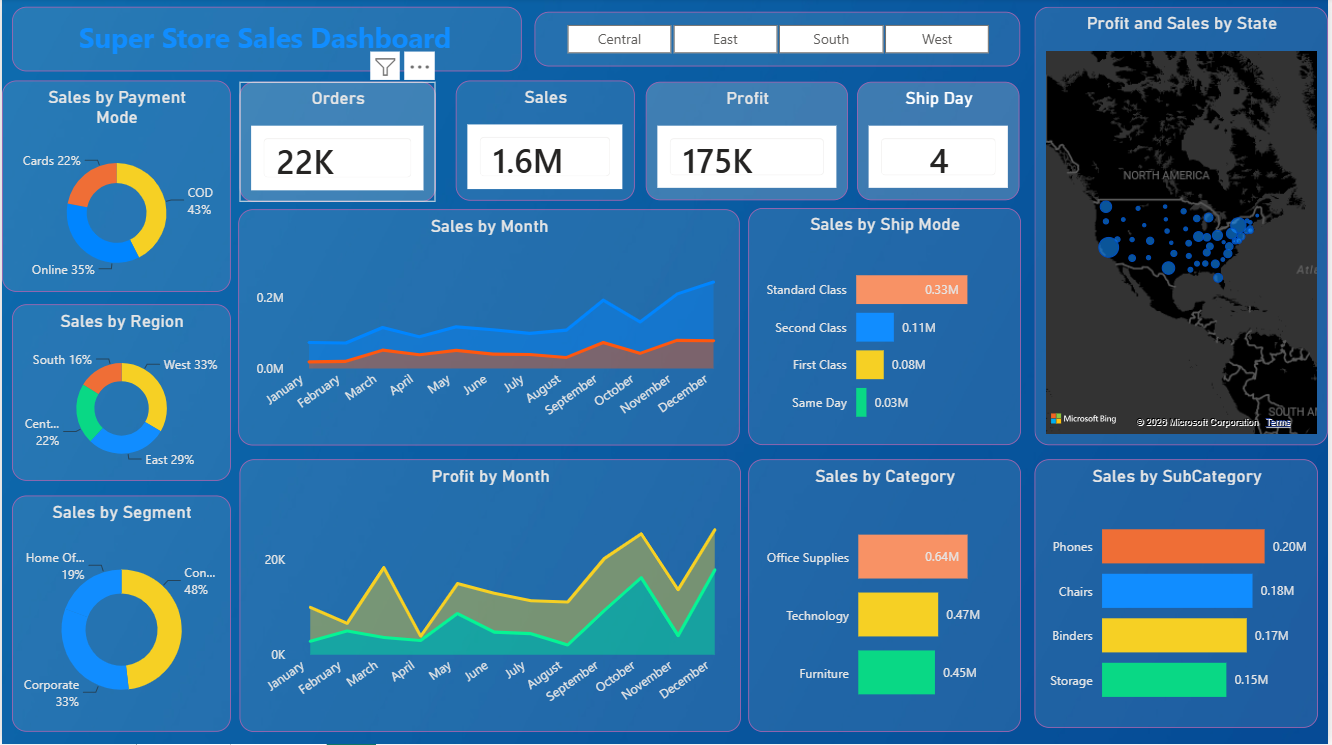

The page's visual inventory and layout, read from the dashboard file:
{"tool":"powerbi","page":{"name":"Page 1","canvas":[1280,720],"ordinal":0},"visuals":[{"type":"clusteredBarChart","title":"Sales by Category","fields":{"Category":["Sheet1.Category"],"Y":["Sum(Sheet1.Sales)"]},"box":[720.2,445.2,263,263],"z":0},{"type":"clusteredBarChart","title":"Sales by SubCategory","fields":{"Category":["Sheet1.Sub-Category"],"Y":["Sum(Sheet1.Sales)"]},"box":[996.5,445.2,273.9,259.4],"z":1000},{"type":"clusteredBarChart","title":"Sales by Ship Mode","fields":{"Category":["Sheet1.Ship Mode","Sheet1.Sub-Category"],"Y":["Sum(Sheet1.Sales)"]},"box":[720.2,202.7,262.9,228.6],"z":2000},{"type":"stackedAreaChart","title":"Sales by Month","fields":{"Y":["Sum(Sheet1.Sales)"],"Series":["Sheet1.Order Date.Variation.Date Hierarchy.Year"],"Category":["Sheet1.Order Date.Variation.Date Hierarchy.Month"]},"box":[228,203.9,483.8,228],"z":3000},{"type":"stackedAreaChart","title":"Profit by Month ","fields":{"Series":["Sheet1.Order Date.Variation.Date Hierarchy.Year"],"Category":["Sheet1.Order Date.Variation.Date Hierarchy.Month"],"Y":["Sum(Sheet1.Profit)"]},"box":[229.2,445.2,483.8,263],"z":4000},{"type":"map","title":"Profit and Sales by State","fields":{"Category":["Sheet1.State"],"Size":["Sum(Sheet1.Sales)"]},"box":[996.5,8.4,283.5,423.5],"z":5000},{"type":"donutChart","title":"Sales by Segment","fields":{"Category":["Sheet1.Segment"],"Y":["Sum(Sheet1.Sales)"]},"box":[9.7,480.2,211.1,228],"z":6000},{"type":"donutChart","title":"Sales by Payment Mode","fields":{"Category":["Sheet1.Payment Mode"],"Y":["Sum(Sheet1.Sales)"]},"box":[0,79.6,220.8,203.9],"z":7000},{"type":"slicer","fields":{"Values":["Sheet1.Region"]},"box":[513.9,13.3,468.6,52.9],"z":8000},{"type":"textbox","box":[9.7,8.4,492.2,62.7],"z":9000},{"type":"cardVisual","title":"Sales","fields":{"Data":["Sum(Sheet1.Sales)"]},"box":[437.9,79.6,172.5,115.8],"z":10000},{"type":"cardVisual","title":"Orders","fields":{"Data":["Sum(Sheet1.Quantity)"]},"box":[229.2,80.8,189.4,115.8],"z":11000},{"type":"cardVisual","title":"Profit","fields":{"Data":["Sum(Sheet1.Profit)"]},"box":[621.3,80.8,195.4,114.6],"z":12000},{"type":"cardVisual","title":"Ship  Day","fields":{"Data":["Avg(Sheet1.AvgDelivery)"]},"box":[825.2,80.8,157.1,114.3],"z":13000},{"type":"donutChart","title":"Sales by Region","fields":{"Category":["Sheet1.Region"],"Y":["Sum(Sheet1.Sales)"]},"box":[9.7,295.6,211.1,170.1],"z":14000}]}

Visuals, with their boxes in screenshot pixels (x1, y1, x2, y2), scaled from the page's 1280x720 canvas onto the 1332x745 screenshot:
"Sales by Category" clusteredBarChart: BBox(749, 461, 1023, 733)
"Sales by SubCategory" clusteredBarChart: BBox(1037, 461, 1322, 729)
"Sales by Ship Mode" clusteredBarChart: BBox(749, 210, 1023, 446)
"Sales by Month" stackedAreaChart: BBox(237, 211, 741, 447)
"Profit by Month " stackedAreaChart: BBox(239, 461, 742, 733)
"Profit and Sales by State" map: BBox(1037, 9, 1331, 447)
"Sales by Segment" donutChart: BBox(10, 497, 230, 733)
"Sales by Payment Mode" donutChart: BBox(0, 82, 230, 293)
slicer - Sheet1.Region: BBox(535, 14, 1022, 68)
textbox: BBox(10, 9, 522, 74)
"Sales" cardVisual: BBox(456, 82, 635, 202)
"Orders" cardVisual: BBox(239, 84, 436, 203)
"Profit" cardVisual: BBox(647, 84, 850, 202)
"Ship  Day" cardVisual: BBox(859, 84, 1022, 202)
"Sales by Region" donutChart: BBox(10, 306, 230, 482)
